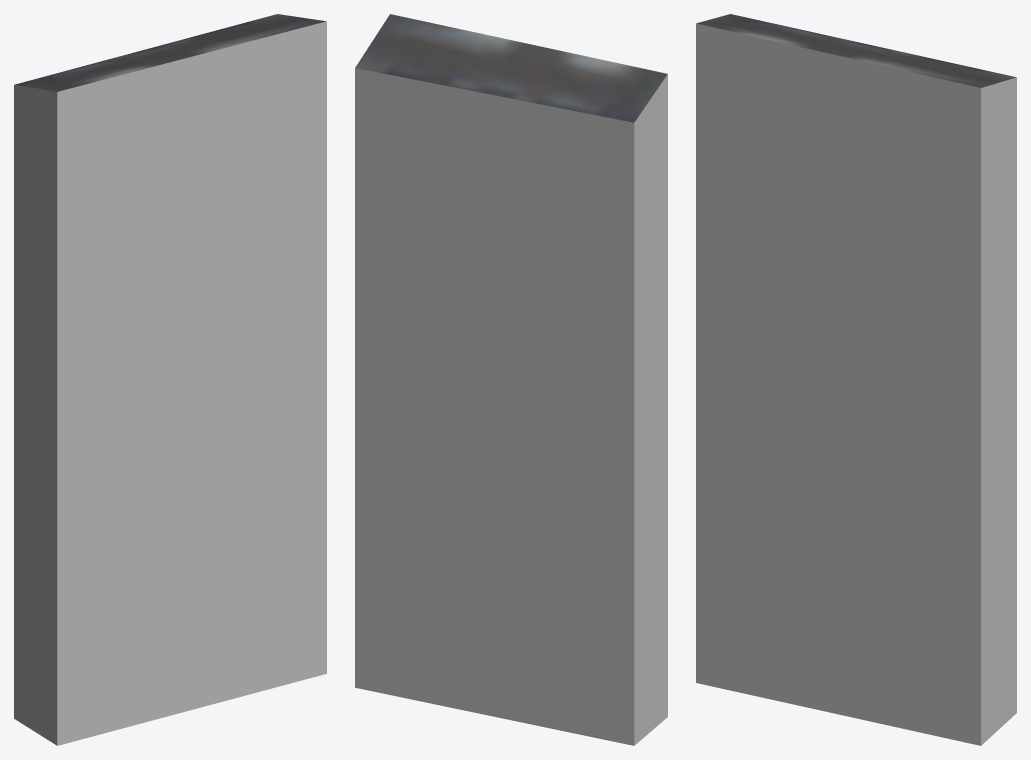
The model's file is DEBW_0010007THWC.gltf.
3 renders of one model, left to right at view 1: azimuth 30°, elevation 25°; view 2: azimuth 150°, elevation 25°; view 3: azimuth 330°, elevation 25°, orthographic. The views are drawn at different scales.
Visible parts, largest first — view 1: Z_UP; view 2: Z_UP; view 3: Z_UP.
Part boxes in pixels (x1,y1,x2,y2): Z_UP: [14, 14, 326, 745]; Z_UP: [355, 14, 667, 745]; Z_UP: [696, 14, 1016, 745].
Bounding box in the file's own units: 6.14 × 13.68 × 1.86.
2 materials, 1 textured.
